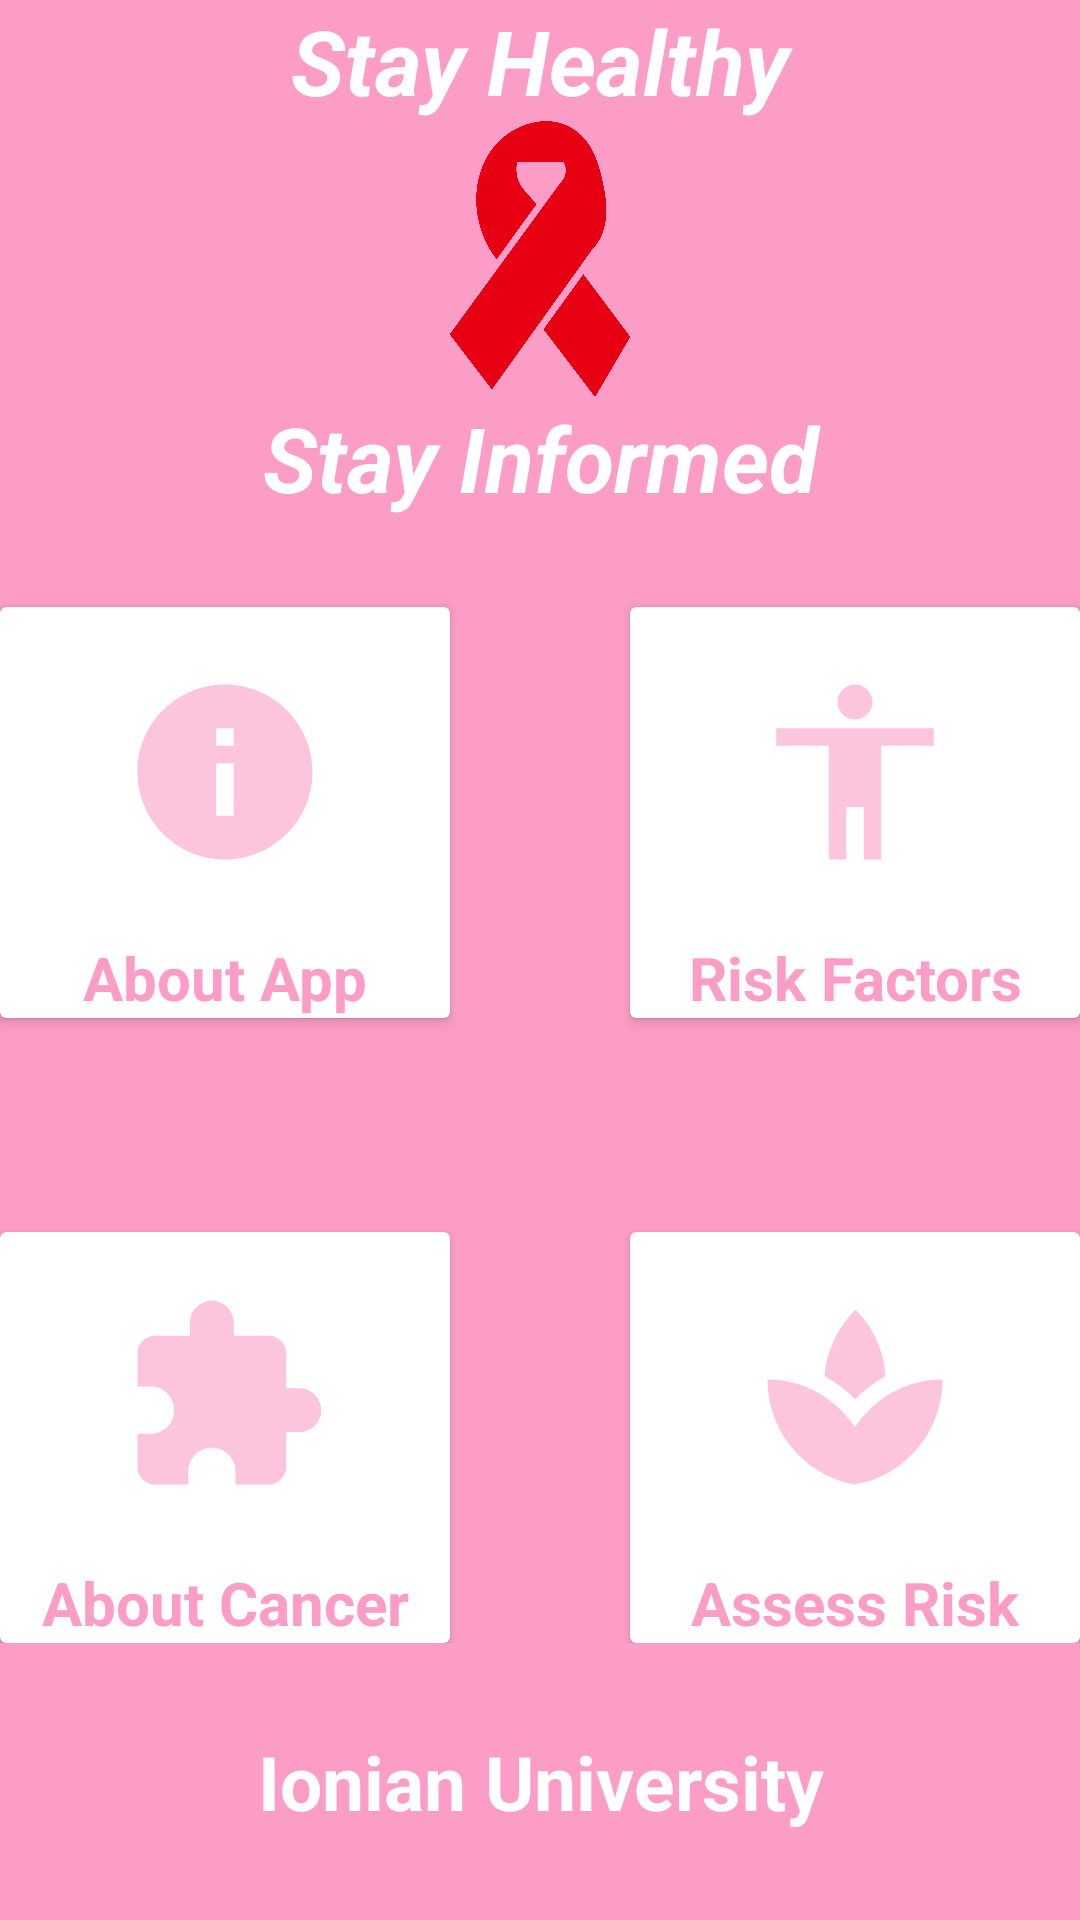

Icons on this 1080 x 1920 Android screen, each with the point to tap as (x,y):
Breast Cancer Icon: (540,258)
puzzle: (229,1393)
